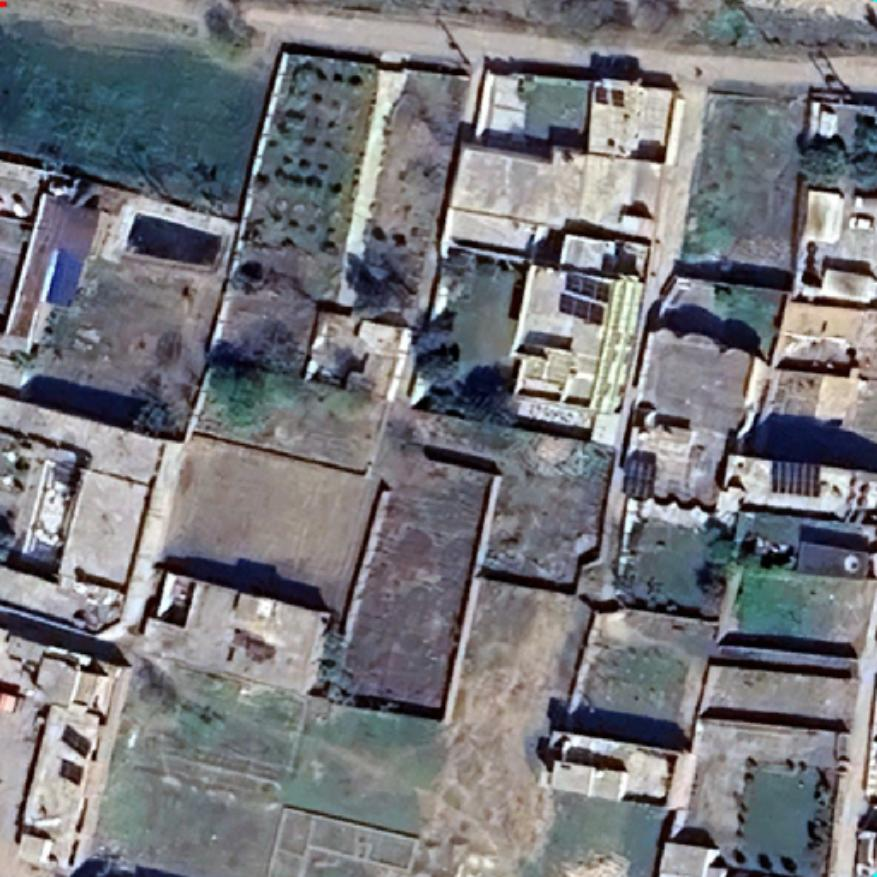Solarpanel: (768, 456, 824, 500), (619, 453, 661, 503), (563, 273, 614, 304), (558, 292, 603, 326), (57, 721, 94, 759), (56, 753, 86, 786)
